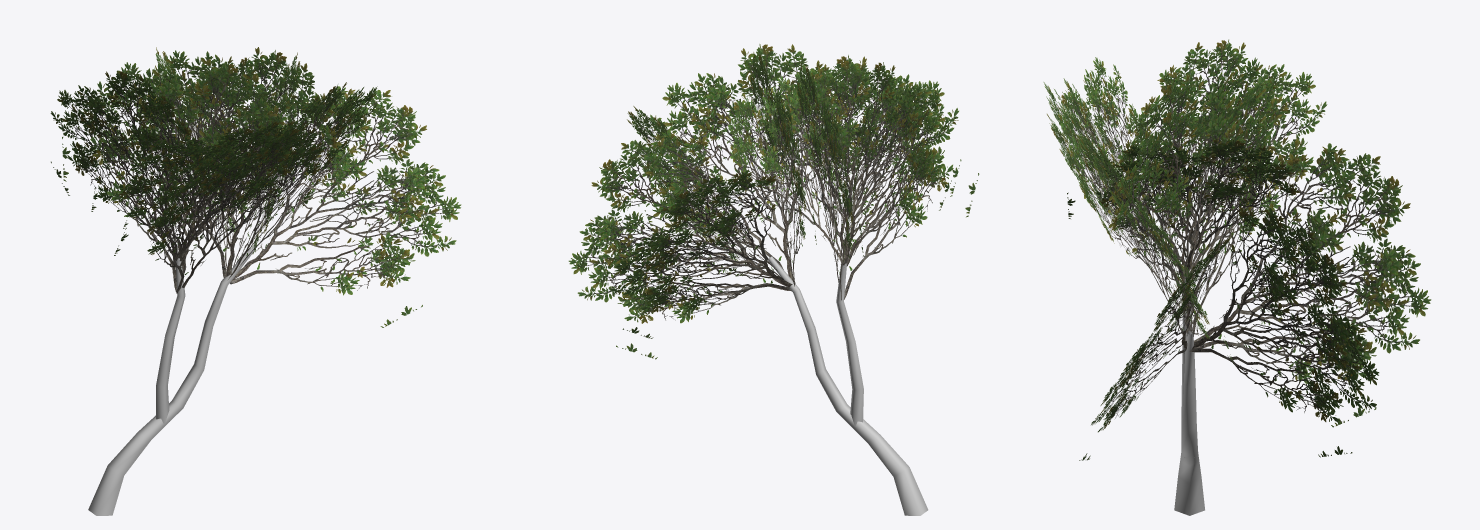
File: tree7.FBX
3 renders of one model, left to right at view 1: azimuth 30°, elevation 25°; view 2: azimuth 150°, elevation 25°; view 3: azimuth 270°, elevation 25°, orthographic. The views are drawn at different scales.
Parts seen in each view (by area): view 1: tree11; view 2: tree11; view 3: tree11.
Boxes of the visible parts, bbox=[...] form: tree11: bbox=[50, 47, 461, 515]; tree11: bbox=[568, 44, 979, 515]; tree11: bbox=[1043, 39, 1431, 515].
Size of the model in its own units: 63.12 by 71.34 by 54.01.
